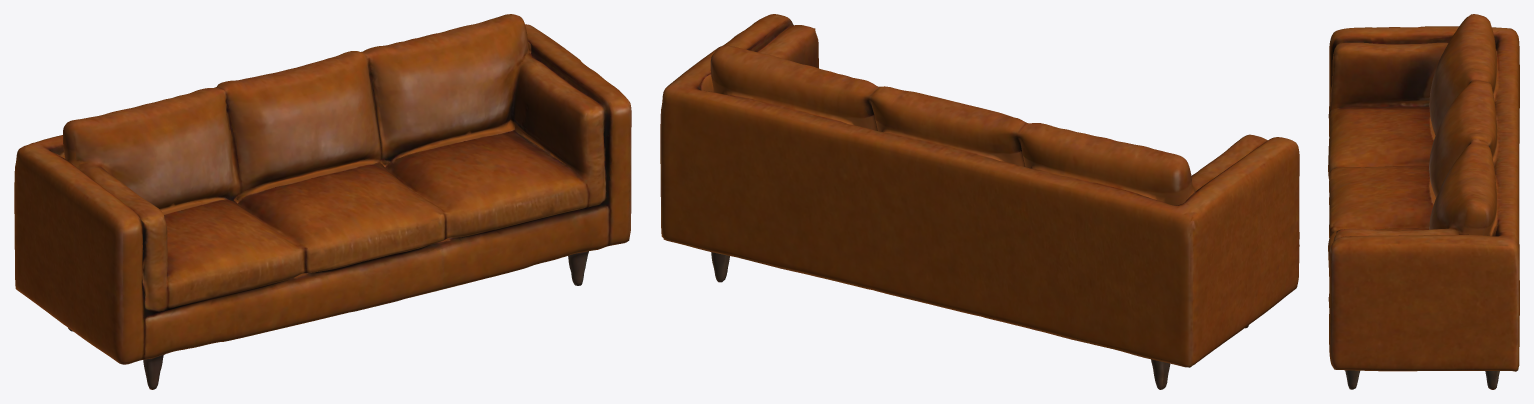
File: sofa.glb
The picture shows the model from 3 angles, left to right: view 1: azimuth 30°, elevation 25°; view 2: azimuth 150°, elevation 25°; view 3: azimuth 270°, elevation 25°; orthographic projection. The views are drawn at different scales.
Size of the model in its own units: 2 by 0.8049 by 0.7334.
Materials: 1 (1 with a texture image).
